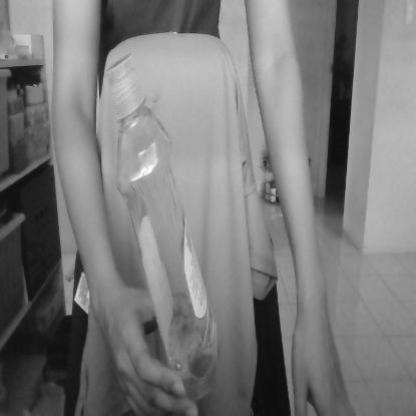Plastic Bottle: (100, 46, 222, 409)
